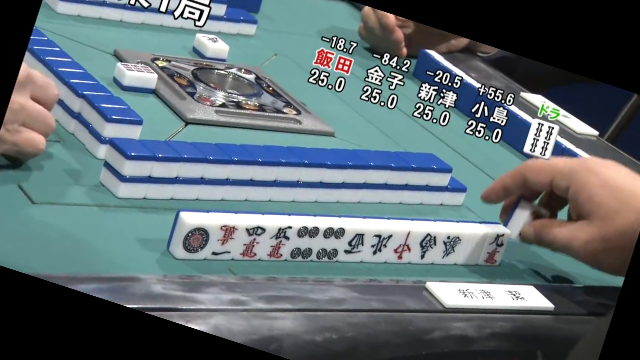Tehai: (171, 204, 509, 275)
